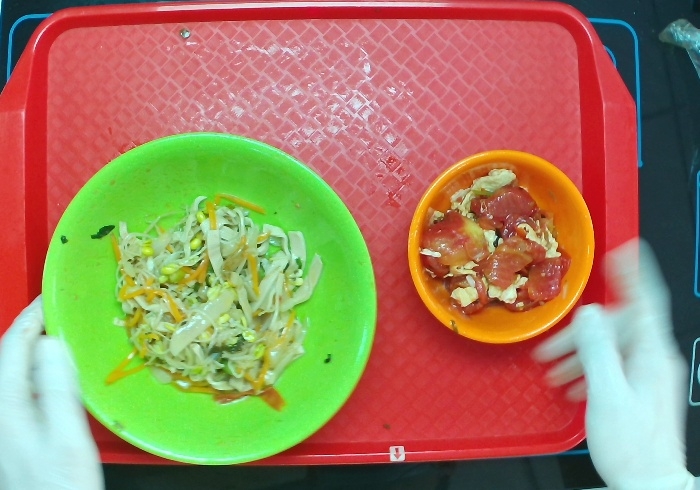YKMZ-Ju_Se_Yuan_Wan: (404, 150, 599, 348)
YKMZ-Lv_Se_Tang_Wan: (41, 128, 384, 468)
